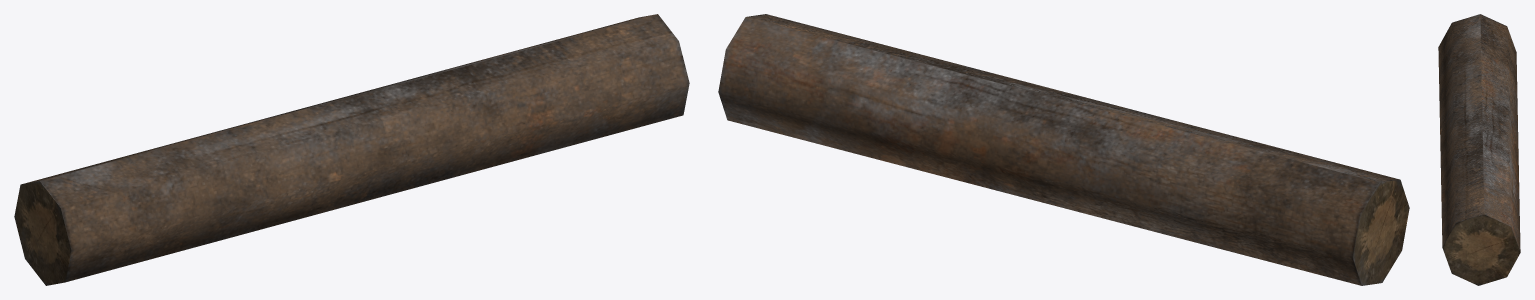
3 renders of one model, left to right at view 1: azimuth 30°, elevation 25°; view 2: azimuth 150°, elevation 25°; view 3: azimuth 270°, elevation 25°, orthographic. The views are drawn at different scales.
Visible parts, largest first — view 1: SW_A_lo; view 2: SW_A_lo; view 3: SW_A_lo.
Part boxes in pixels (<box>): SW_A_lo: <box>14,14,689,285</box>; SW_A_lo: <box>718,14,1409,285</box>; SW_A_lo: <box>1438,14,1520,285</box>.
Bounding box in the file's own units: 1.27 × 0.2256 × 0.2096.
1 material, 1 textured.
